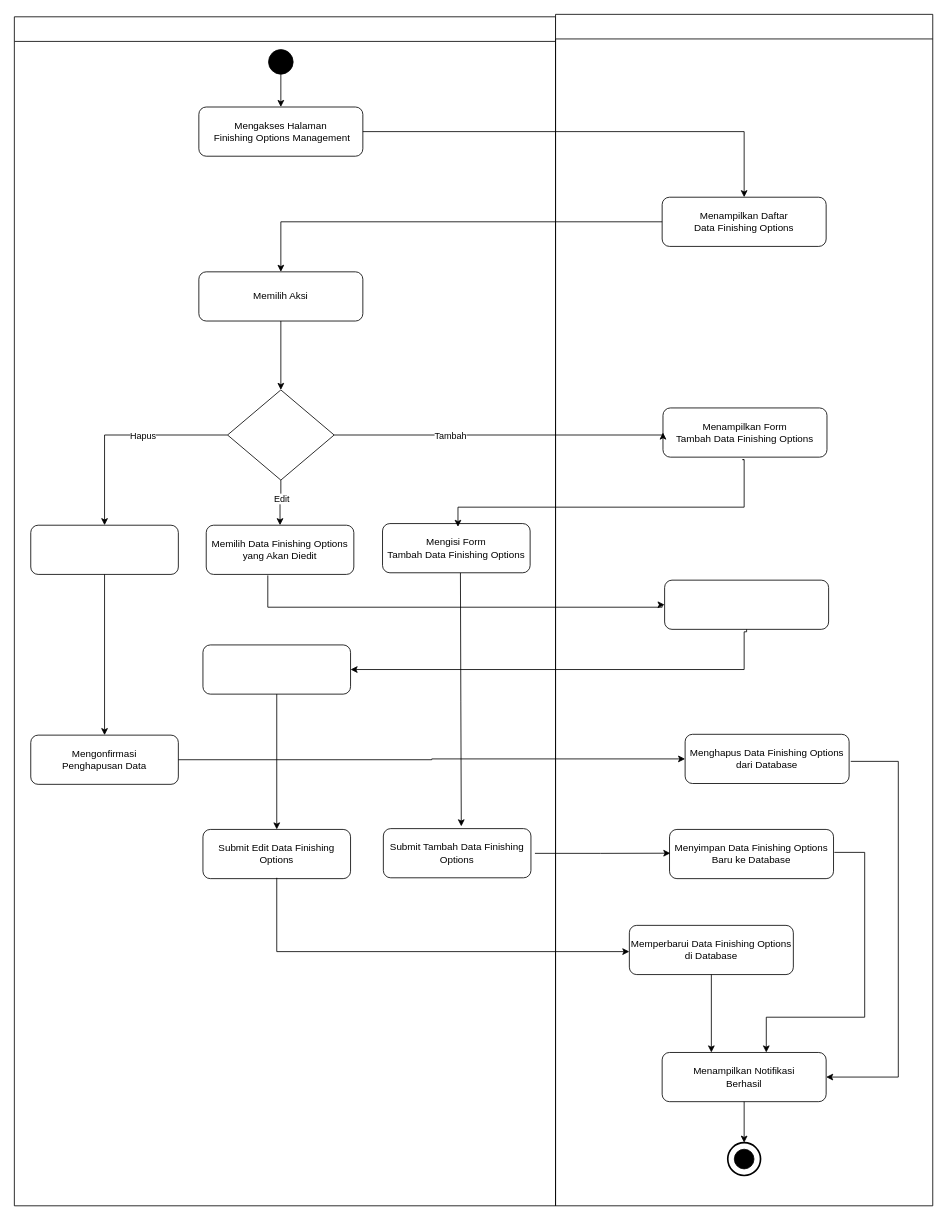
The diagram is 947 pixels wide and 1220 high, and some of its shapes have lost their labels. Here are the shapes that lost their labels. From the top down, the box of each, then its label:
(227, 389, 334, 480): Aksi?
(30, 524, 178, 574): Memilih Data Finishing Options yang Akan Dihapus
(14, 16, 556, 1206): Admin
(555, 14, 933, 1206): System
(664, 579, 829, 629): Menampilkan Form Edit Data Finishing Options
(202, 644, 351, 694): Mengubah Data pada Form Edit
